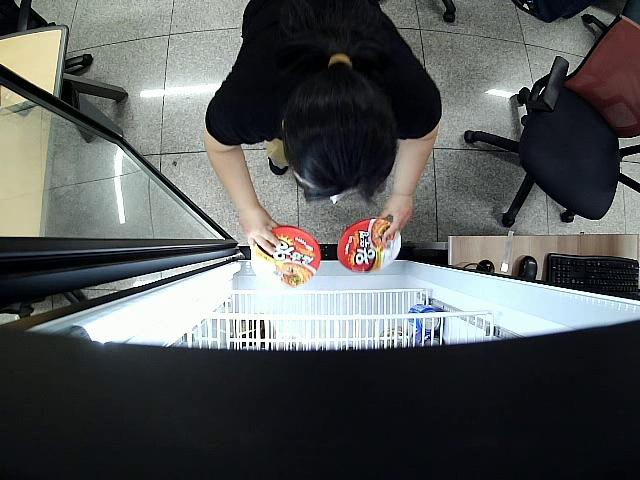00_hand: (240, 206, 282, 255), (375, 195, 415, 242)
10_wangTtukkeong: (252, 226, 321, 289), (338, 219, 401, 273)
